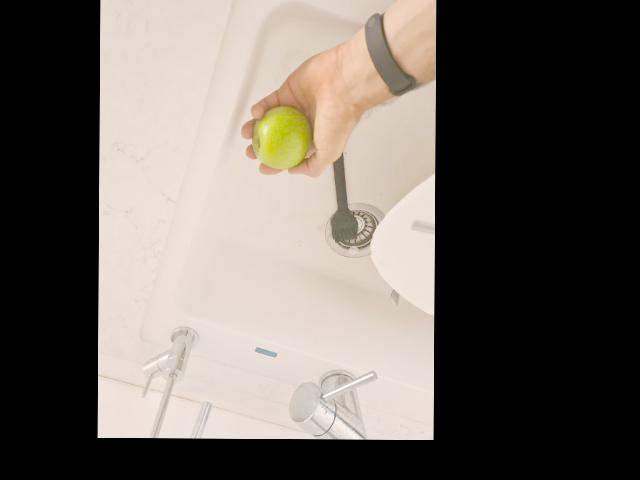apple: (251, 104, 310, 169)
